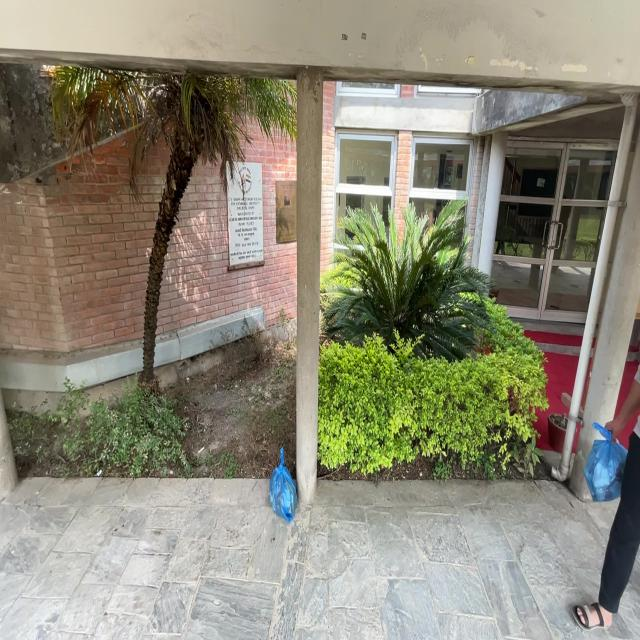carryload: (586, 391, 635, 521)
garbage: (257, 439, 306, 521)
